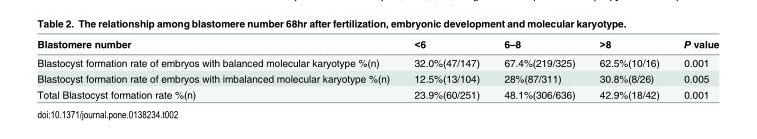table: (36, 37, 718, 99)
table column: (36, 37, 401, 99), (491, 37, 586, 99), (401, 37, 491, 99), (586, 37, 670, 99), (670, 37, 718, 99)
table column header: (36, 37, 718, 53)
table row: (36, 53, 718, 70), (36, 37, 718, 53), (36, 70, 718, 86), (36, 86, 718, 99)
